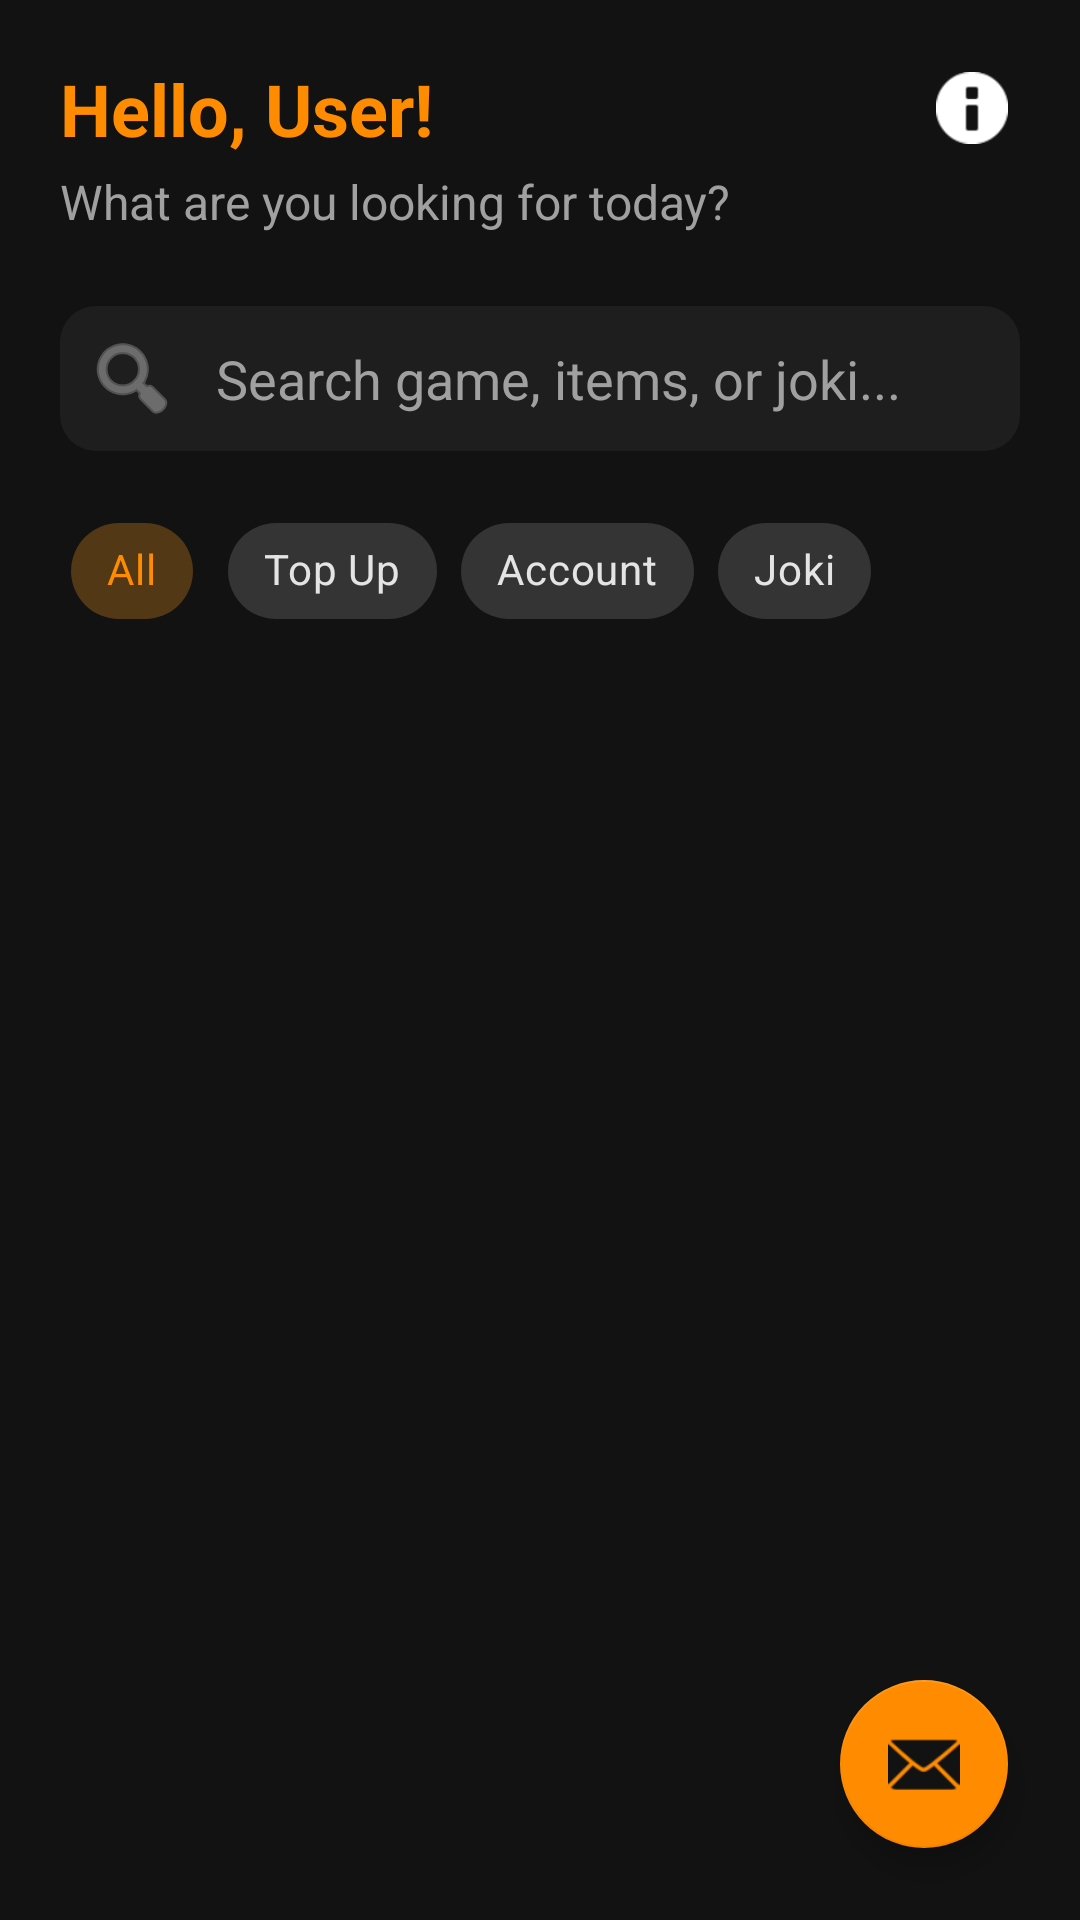

Icons on this 1080 × 1920 Android screen, each with the point to tap as [x,y]:
Chat List: [924,1764]
info: [972,108]
